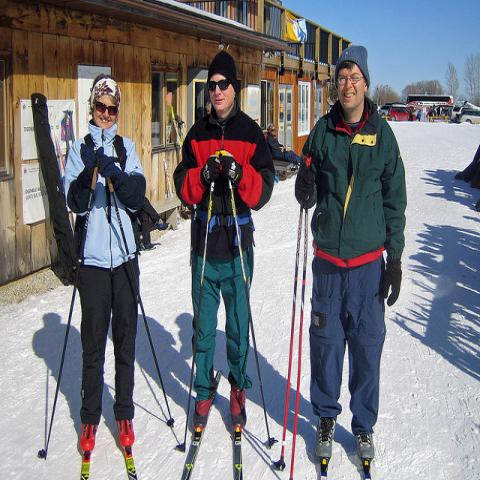bus: (406, 93, 453, 113)
car: (389, 109, 417, 122), (458, 109, 480, 124), (450, 106, 472, 120), (406, 101, 424, 110), (379, 107, 393, 116), (444, 107, 453, 117), (440, 104, 446, 116)
